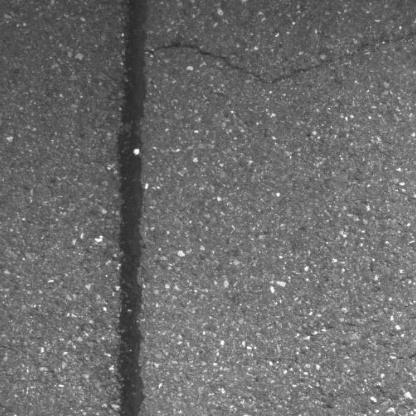Cracks: (141, 29, 416, 90)
